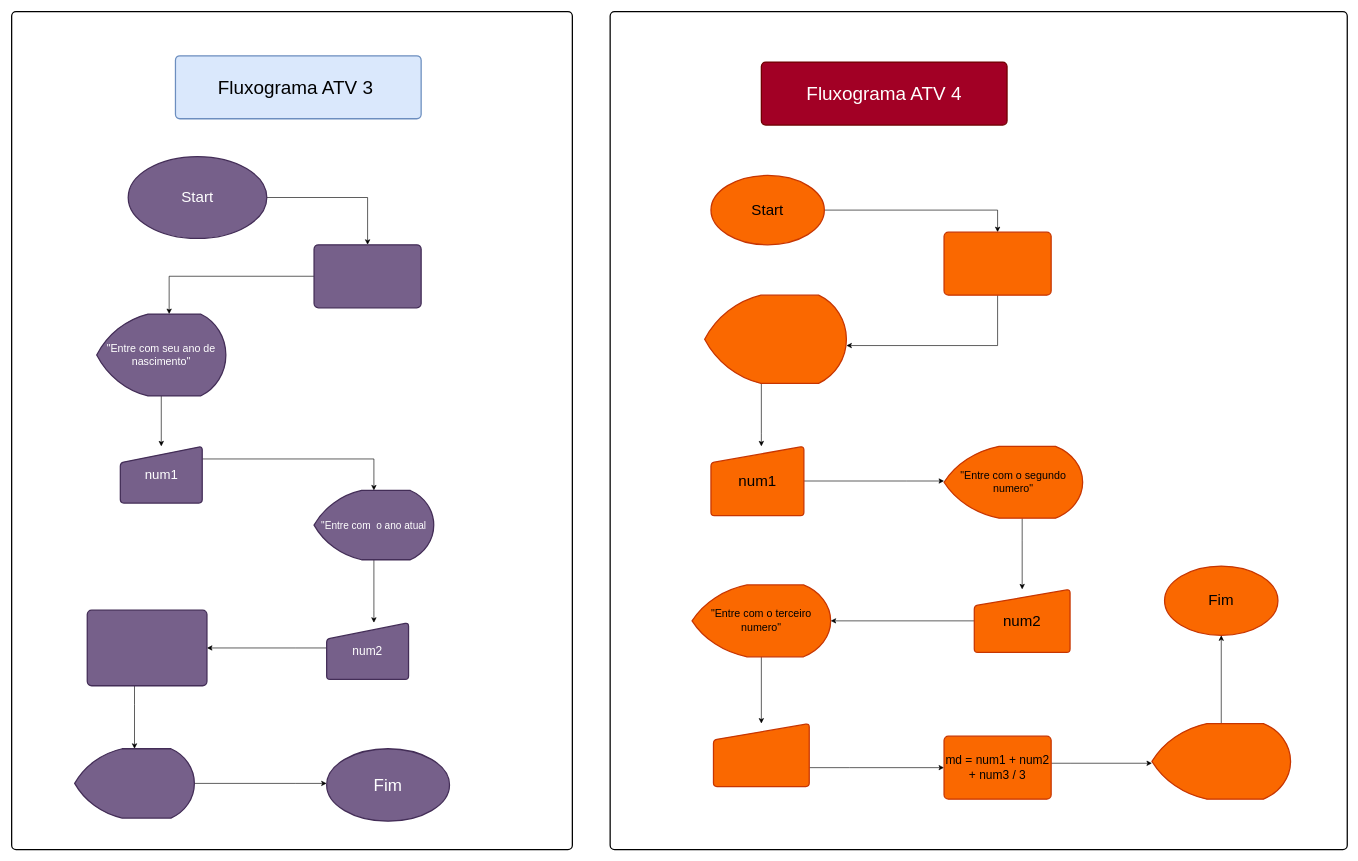
Image size: 1358x861. Some labels were removed from this diagram. Each missing label, with the centre of its shape:
"Entre com o primeiro numero: (775,339)
A media dos valores é : md: (1221,761)
idade = num2 - num1: (146,647)
INT = num1, num2, idade;: (367,276)
INT = num1, num2, num3, md;: (997,263)
num3: (761,755)
Sua idade é = idade: (134,783)
